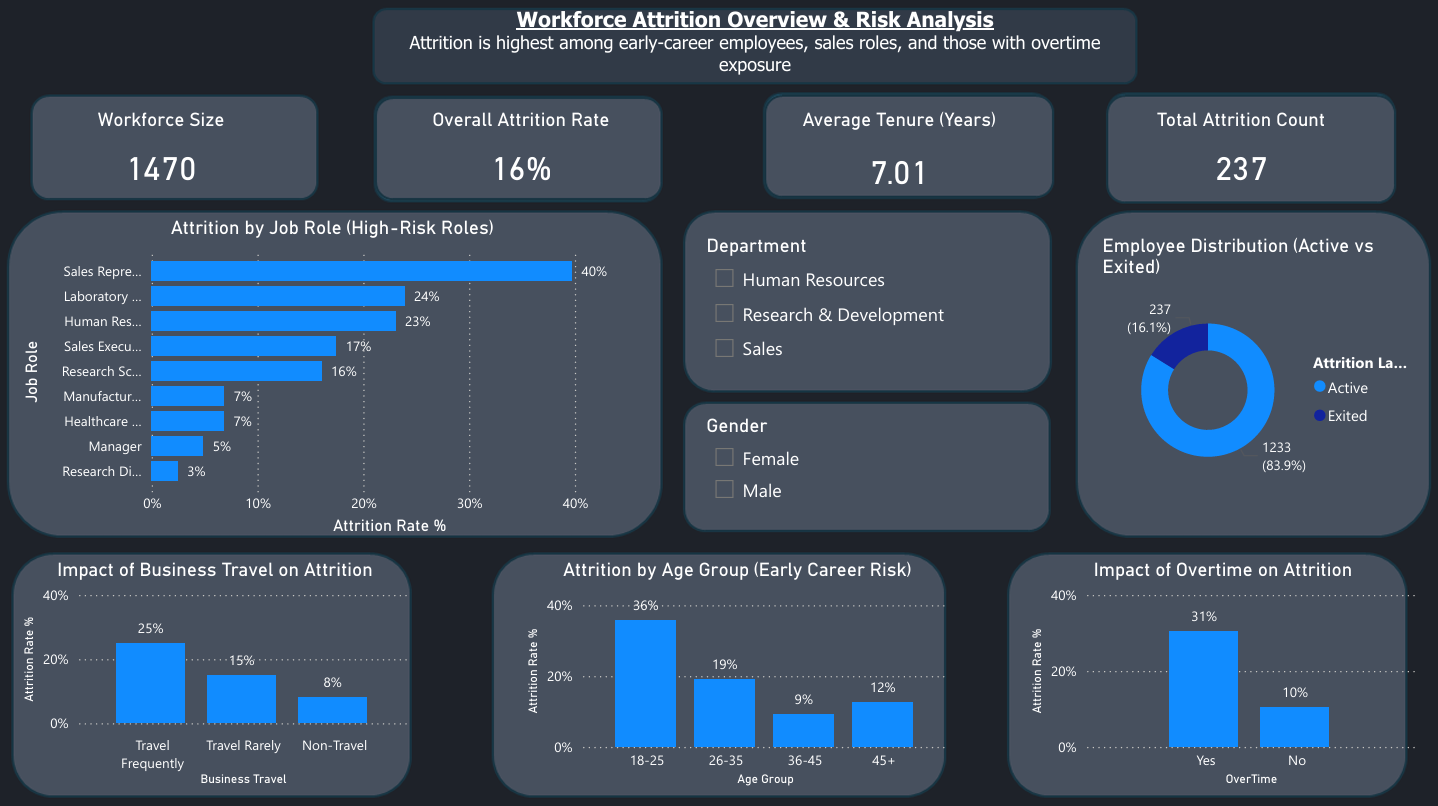

The dashboard page shown, as its layout file describes it:
{"tool":"powerbi","page":{"name":"Page 1","canvas":[1280,720],"ordinal":0},"visuals":[{"type":"card","title":"Workforce Size","fields":{"Values":["Palo Alto Networks.Total Employees"]},"box":[0,96,288,90],"z":0},{"type":"card","title":"Total Attrition Count","fields":{"Values":["Palo Alto Networks.Employees Left"]},"box":[960,96,288,90],"z":1000},{"type":"card","title":"Overall Attrition Rate","fields":{"Values":["Palo Alto Networks.Attrition Rate %"]},"box":[320,96,288,90],"z":2000},{"type":"card","title":"Average Tenure (Years)","fields":{"Values":["Palo Alto Networks.Avg Tenure"]},"box":[656,96,288,96],"z":3000},{"type":"barChart","title":"Attrition by Job Role (High-Risk Roles)","fields":{"Category":["Palo Alto Networks.Job Role"],"Y":["Palo Alto Networks.Attrition Rate %"]},"box":[16,192,560,288],"z":4000},{"type":"donutChart","title":"Employee Distribution (Active vs Exited)","fields":{"Y":["Palo Alto Networks.Total Employees"],"Category":["Palo Alto Networks.Attrition Label"]},"box":[976,208,288,240],"z":5000},{"type":"columnChart","title":"Impact of Overtime on Attrition","fields":{"Category":["Palo Alto Networks.OverTime"],"Y":["Palo Alto Networks.Attrition Rate %"]},"box":[912,496,352,208],"z":6000},{"type":"clusteredColumnChart","title":"Impact of Business Travel on Attrition","fields":{"Category":["Palo Alto Networks.Business Travel"],"Y":["Palo Alto Networks.Attrition Rate %"]},"box":[16,496,352,208],"z":7000},{"type":"slicer","title":"Department","fields":{"Values":["Palo Alto Networks.Department"]},"box":[624,208,288,128],"z":8000},{"type":"slicer","title":"Gender","fields":{"Values":["Palo Alto Networks.Gender"]},"box":[624,368,288,96],"z":9000},{"type":"clusteredColumnChart","title":"Attrition by Age Group (Early Career Risk)","fields":{"Category":["Palo Alto Networks.Age Group"],"Y":["Palo Alto Networks.Attrition Rate %"]},"box":[464,496,384,208],"z":10000},{"type":"textbox","box":[336,0,672,80],"z":11000}]}

Visuals, with their boxes in screenshot pixels (x1, y1, x2, y2), scaled from the page's 1280x720 canvas onto the 1438x806 screenshot:
"Workforce Size" card: [0, 107, 324, 208]
"Total Attrition Count" card: [1078, 107, 1402, 208]
"Overall Attrition Rate" card: [360, 107, 683, 208]
"Average Tenure (Years)" card: [737, 107, 1061, 215]
"Attrition by Job Role (High-Risk Roles)" barChart: [18, 215, 647, 537]
"Employee Distribution (Active vs Exited)" donutChart: [1096, 233, 1420, 502]
"Impact of Overtime on Attrition" columnChart: [1025, 555, 1420, 788]
"Impact of Business Travel on Attrition" clusteredColumnChart: [18, 555, 413, 788]
"Department" slicer: [701, 233, 1025, 376]
"Gender" slicer: [701, 412, 1025, 519]
"Attrition by Age Group (Early Career Risk)" clusteredColumnChart: [521, 555, 953, 788]
textbox: [377, 0, 1132, 90]
